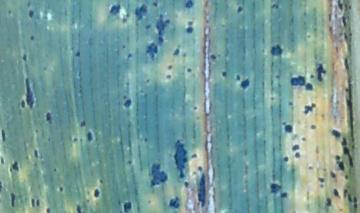tarspot: (173, 141, 187, 178), (150, 163, 167, 187), (156, 14, 170, 42), (25, 77, 35, 109), (198, 173, 207, 207), (343, 146, 354, 168), (134, 5, 148, 21), (145, 43, 158, 60), (289, 74, 305, 87), (270, 43, 282, 59), (317, 63, 327, 82), (268, 181, 280, 193), (168, 197, 181, 208), (122, 199, 132, 213), (110, 3, 120, 16), (303, 103, 315, 113), (92, 188, 102, 199), (45, 111, 52, 126), (11, 161, 21, 171), (77, 119, 87, 129), (241, 79, 251, 89), (332, 128, 341, 139), (10, 193, 16, 209), (87, 129, 93, 145), (340, 15, 347, 28), (123, 98, 132, 108), (305, 81, 314, 91), (284, 124, 293, 134), (332, 188, 341, 198), (1, 127, 7, 141), (325, 196, 332, 208), (184, 1, 194, 9), (337, 161, 345, 171), (28, 9, 35, 20), (32, 148, 39, 159), (172, 48, 180, 57), (209, 53, 218, 61), (270, 2, 279, 10), (291, 143, 299, 152), (280, 190, 289, 198), (342, 188, 348, 200), (336, 1, 344, 10), (28, 32, 35, 42), (19, 98, 26, 108), (21, 52, 27, 63), (236, 6, 244, 14), (220, 69, 228, 77), (309, 124, 317, 132), (341, 137, 348, 146), (76, 203, 82, 213), (73, 50, 81, 57), (70, 136, 78, 143), (126, 158, 134, 165), (186, 27, 194, 34), (282, 155, 289, 163), (7, 8, 13, 17), (183, 179, 189, 188), (120, 17, 129, 23), (343, 173, 349, 182), (306, 164, 315, 170), (347, 193, 352, 203), (146, 74, 151, 84), (98, 178, 105, 185), (152, 1, 159, 8), (187, 20, 194, 27), (329, 171, 336, 178), (352, 203, 359, 210), (120, 43, 127, 50), (34, 128, 41, 135), (126, 52, 132, 60), (165, 73, 173, 79), (235, 74, 241, 82), (334, 154, 340, 162), (352, 195, 358, 203), (299, 136, 307, 142), (26, 1, 32, 8), (197, 165, 203, 172), (167, 64, 173, 71), (192, 104, 198, 111), (287, 100, 294, 106), (1, 154, 5, 164), (31, 198, 35, 208), (144, 24, 152, 29), (45, 207, 51, 213), (191, 153, 197, 159), (186, 67, 192, 73), (294, 153, 300, 159), (344, 87, 350, 93), (58, 186, 63, 193), (144, 137, 149, 144), (318, 178, 325, 183), (36, 198, 40, 206), (1, 180, 3, 195), (309, 74, 315, 79), (53, 166, 57, 173), (319, 183, 325, 187)
